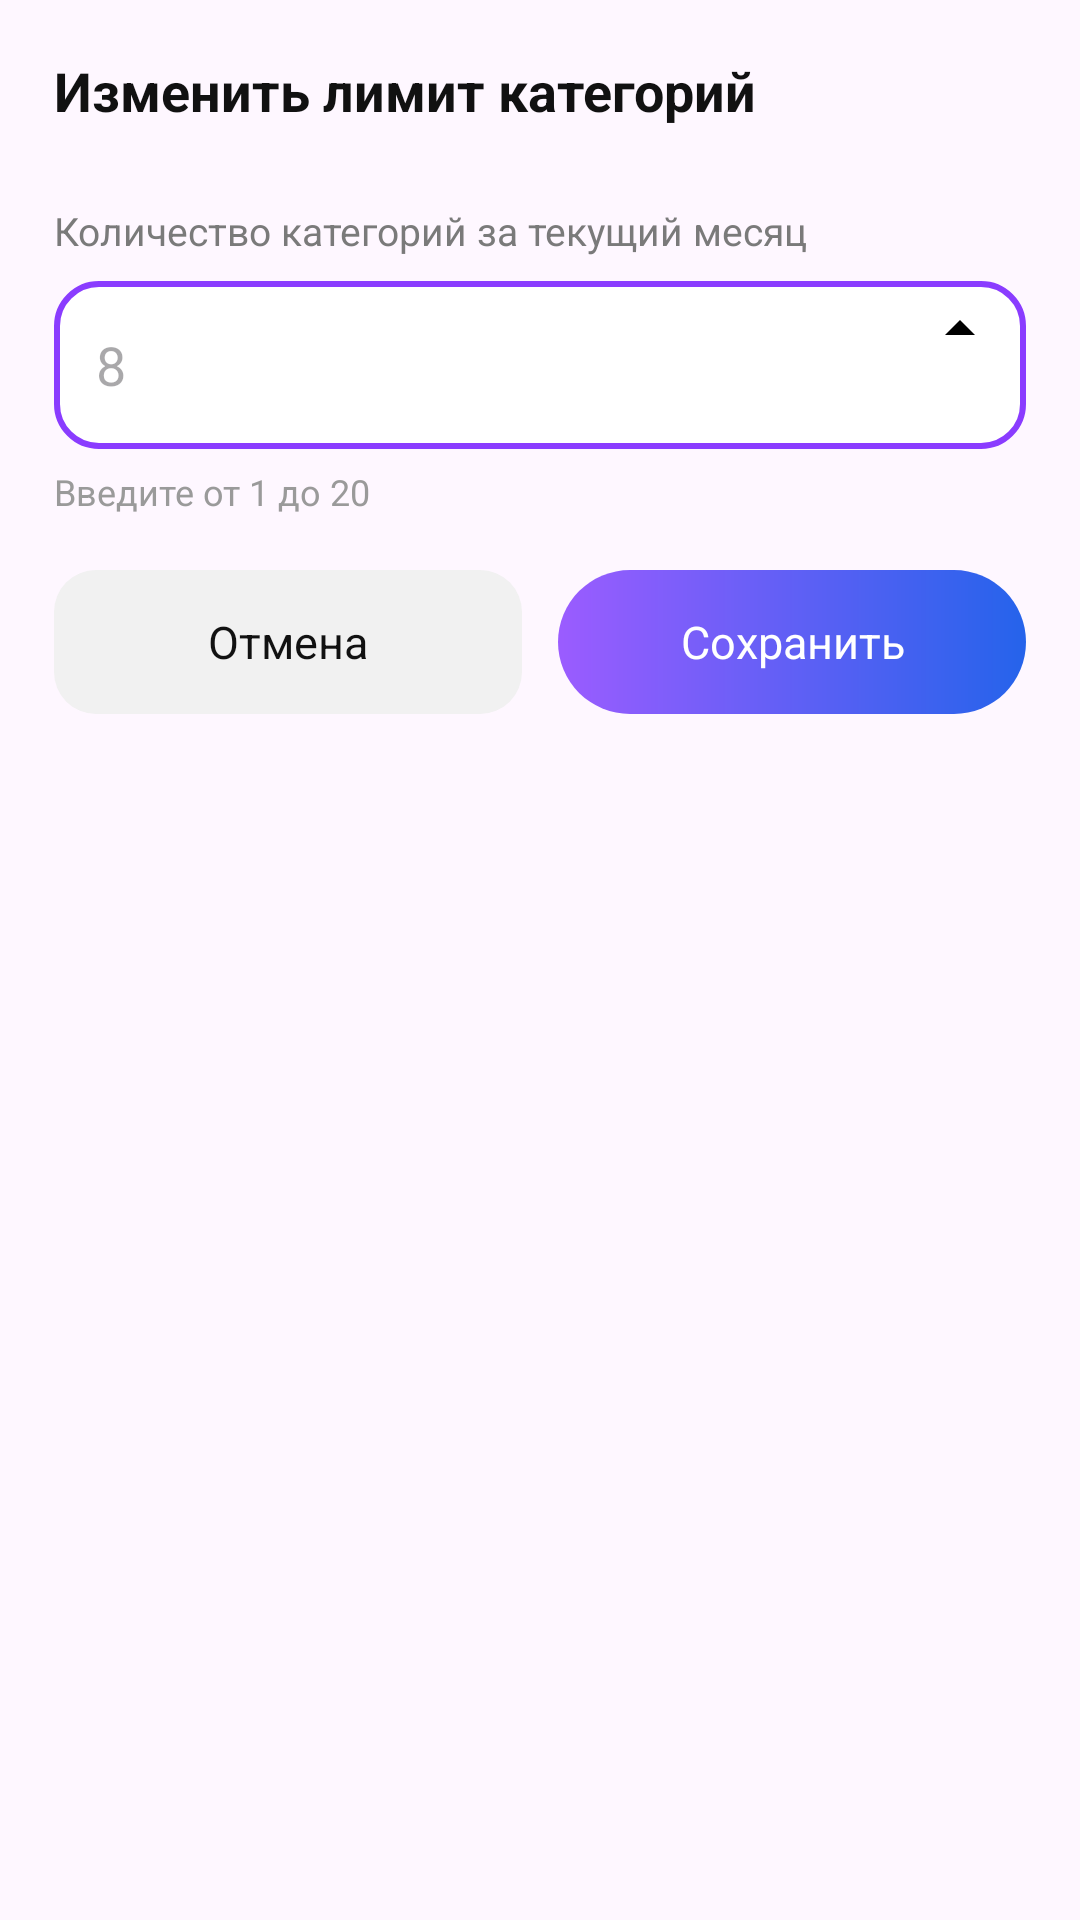

Icons on this 1080x1920 Android screen, each with the point to tap as (x,y):
Увеличить: (960,327)
